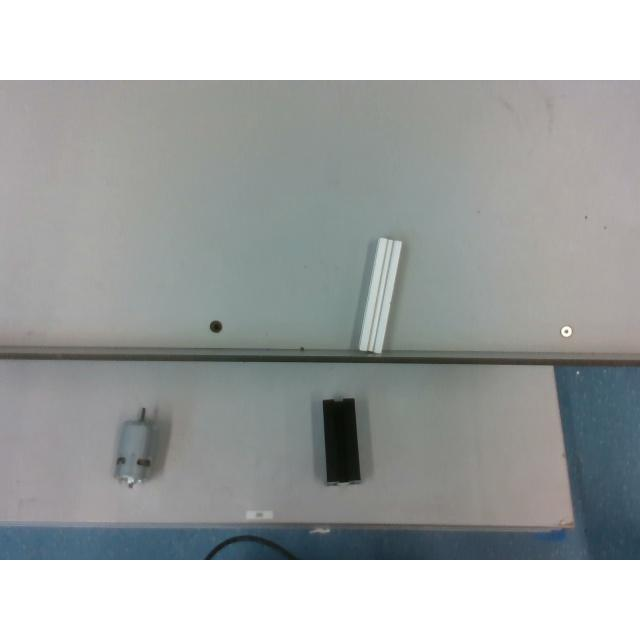F20_20_G: (354, 237, 404, 356)
Motor2: (114, 408, 158, 490)
S40_40_B: (322, 398, 362, 486)
